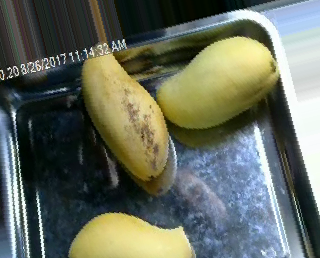Mango: (82, 42, 169, 180), (155, 36, 279, 130), (67, 211, 191, 258)
